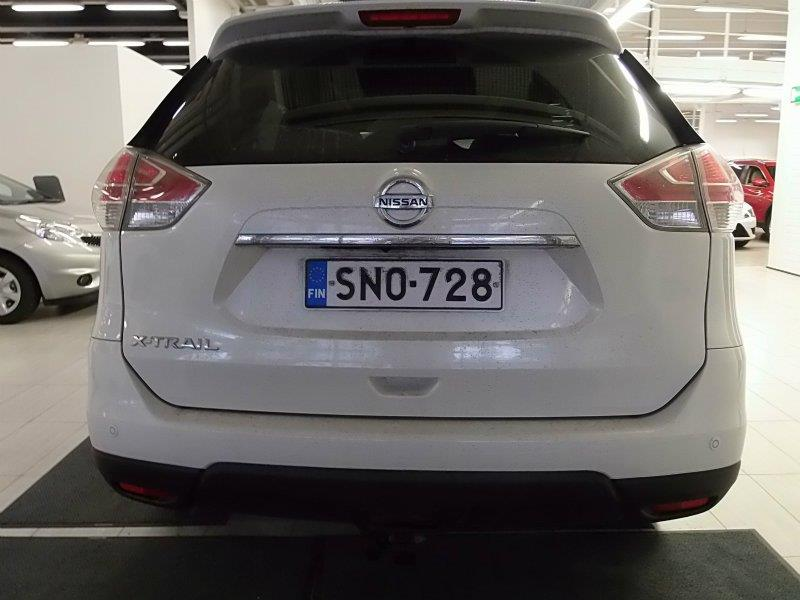license: (302, 261, 503, 313)
